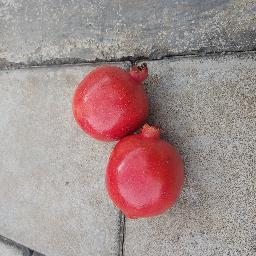Good_pomegranate: (106, 126, 185, 218), (68, 57, 157, 137)
